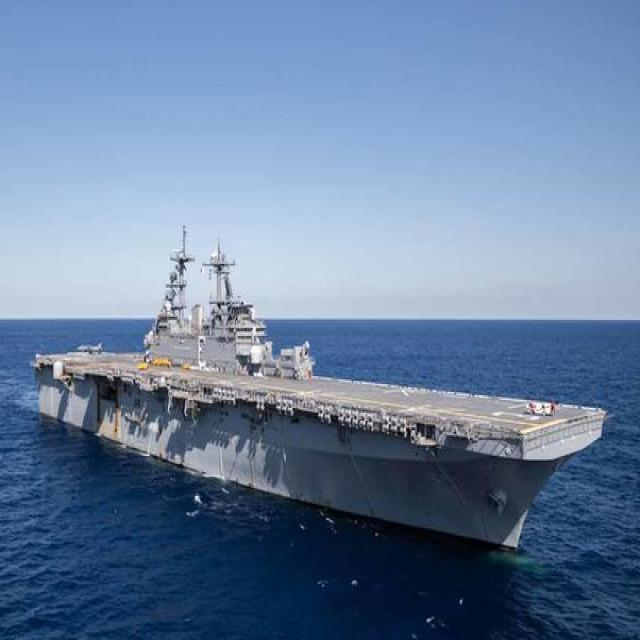navalvessels: (11, 234, 588, 523)
